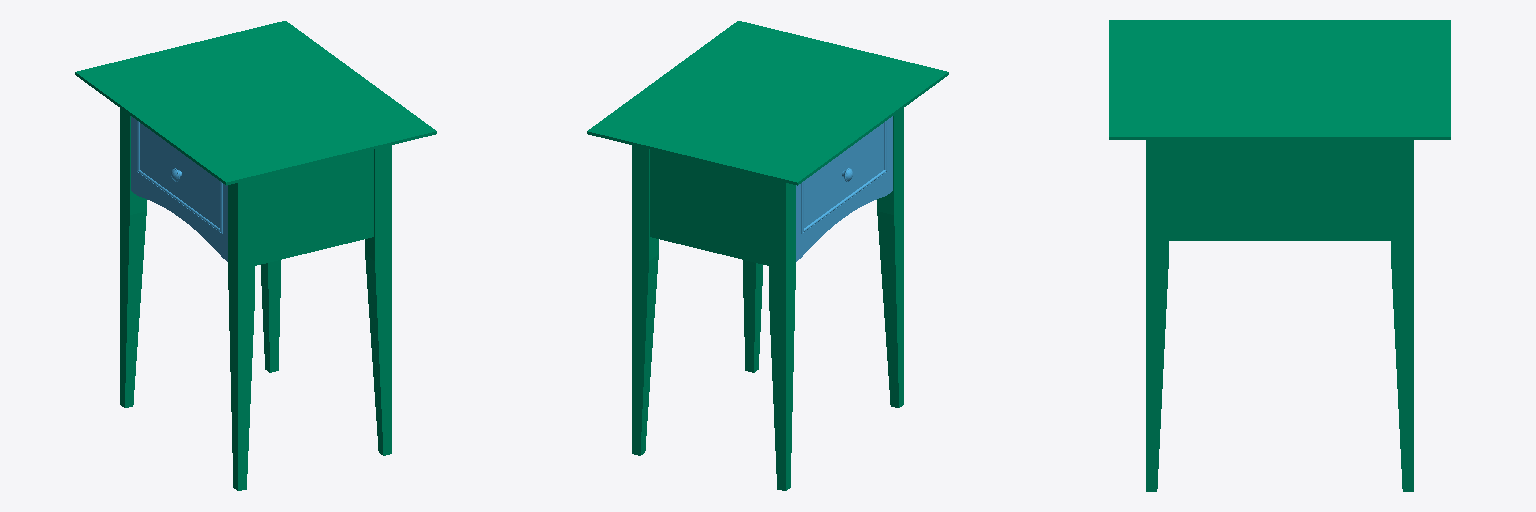
robot.urdf — partnet_299ff1bf2618a4b584b039efed4b32d7:
<?xml version="1.0" ?>
<robot name="partnet_299ff1bf2618a4b584b039efed4b32d7">
	<link name="base"/>
	<link name="link_0">
		<visual name="drawer_front-15">
			<origin xyz="0 0 0"/>
			<geometry>
				<mesh filename="textured_objs/original-19.obj"/>
			</geometry>
		</visual>
		<visual name="drawer_front-15">
			<origin xyz="0 0 0"/>
			<geometry>
				<mesh filename="textured_objs/original-30.obj"/>
			</geometry>
		</visual>
		<visual name="drawer_front-15">
			<origin xyz="0 0 0"/>
			<geometry>
				<mesh filename="textured_objs/original-10.obj"/>
			</geometry>
		</visual>
		<visual name="drawer_front-15">
			<origin xyz="0 0 0"/>
			<geometry>
				<mesh filename="textured_objs/original-31.obj"/>
			</geometry>
		</visual>
		<visual name="drawer_front-15">
			<origin xyz="0 0 0"/>
			<geometry>
				<mesh filename="textured_objs/original-27.obj"/>
			</geometry>
		</visual>
		<visual name="drawer_front-15">
			<origin xyz="0 0 0"/>
			<geometry>
				<mesh filename="textured_objs/original-7.obj"/>
			</geometry>
		</visual>
		<visual name="drawer_front-15">
			<origin xyz="0 0 0"/>
			<geometry>
				<mesh filename="textured_objs/original-29.obj"/>
			</geometry>
		</visual>
		<visual name="drawer_front-15">
			<origin xyz="0 0 0"/>
			<geometry>
				<mesh filename="textured_objs/original-20.obj"/>
			</geometry>
		</visual>
		<visual name="drawer_front-15">
			<origin xyz="0 0 0"/>
			<geometry>
				<mesh filename="textured_objs/original-26.obj"/>
			</geometry>
		</visual>
		<visual name="drawer_side-16">
			<origin xyz="0 0 0"/>
			<geometry>
				<mesh filename="textured_objs/original-5.obj"/>
			</geometry>
		</visual>
		<visual name="drawer_side-17">
			<origin xyz="0 0 0"/>
			<geometry>
				<mesh filename="textured_objs/original-6.obj"/>
			</geometry>
		</visual>
		<visual name="drawer_back-18">
			<origin xyz="0 0 0"/>
			<geometry>
				<mesh filename="textured_objs/original-9.obj"/>
			</geometry>
		</visual>
		<visual name="drawer_bottom-19">
			<origin xyz="0 0 0"/>
			<geometry>
				<mesh filename="textured_objs/original-8.obj"/>
			</geometry>
		</visual>
		<visual name="handle-14">
			<origin xyz="0 0 0"/>
			<geometry>
				<mesh filename="textured_objs/original-25.obj"/>
			</geometry>
		</visual>
		<collision>
			<origin xyz="0 0 0"/>
			<geometry>
				<mesh filename="textured_objs/original-19.obj"/>
			</geometry>
		</collision>
		<collision>
			<origin xyz="0 0 0"/>
			<geometry>
				<mesh filename="textured_objs/original-30.obj"/>
			</geometry>
		</collision>
		<collision>
			<origin xyz="0 0 0"/>
			<geometry>
				<mesh filename="textured_objs/original-10.obj"/>
			</geometry>
		</collision>
		<collision>
			<origin xyz="0 0 0"/>
			<geometry>
				<mesh filename="textured_objs/original-31.obj"/>
			</geometry>
		</collision>
		<collision>
			<origin xyz="0 0 0"/>
			<geometry>
				<mesh filename="textured_objs/original-27.obj"/>
			</geometry>
		</collision>
		<collision>
			<origin xyz="0 0 0"/>
			<geometry>
				<mesh filename="textured_objs/original-7.obj"/>
			</geometry>
		</collision>
		<collision>
			<origin xyz="0 0 0"/>
			<geometry>
				<mesh filename="textured_objs/original-29.obj"/>
			</geometry>
		</collision>
		<collision>
			<origin xyz="0 0 0"/>
			<geometry>
				<mesh filename="textured_objs/original-20.obj"/>
			</geometry>
		</collision>
		<collision>
			<origin xyz="0 0 0"/>
			<geometry>
				<mesh filename="textured_objs/original-26.obj"/>
			</geometry>
		</collision>
		<collision>
			<origin xyz="0 0 0"/>
			<geometry>
				<mesh filename="textured_objs/original-5.obj"/>
			</geometry>
		</collision>
		<collision>
			<origin xyz="0 0 0"/>
			<geometry>
				<mesh filename="textured_objs/original-6.obj"/>
			</geometry>
		</collision>
		<collision>
			<origin xyz="0 0 0"/>
			<geometry>
				<mesh filename="textured_objs/original-9.obj"/>
			</geometry>
		</collision>
		<collision>
			<origin xyz="0 0 0"/>
			<geometry>
				<mesh filename="textured_objs/original-8.obj"/>
			</geometry>
		</collision>
		<collision>
			<origin xyz="0 0 0"/>
			<geometry>
				<mesh filename="textured_objs/original-25.obj"/>
			</geometry>
		</collision>
	</link>
	<joint name="joint_0" type="prismatic">
		<origin xyz="0 0 0"/>
		<axis xyz="0 0 1"/>
		<child link="link_0"/>
		<parent link="link_1"/>
		<limit lower="0" upper="0.4119999999999999"/>
	</joint>
	<link name="link_1">
		<visual name="board-24">
			<origin xyz="0 0 0"/>
			<geometry>
				<mesh filename="textured_objs/original-11.obj"/>
			</geometry>
		</visual>
		<visual name="vertical_side_panel-5">
			<origin xyz="0 0 0"/>
			<geometry>
				<mesh filename="textured_objs/original-12.obj"/>
			</geometry>
		</visual>
		<visual name="vertical_side_panel-6">
			<origin xyz="0 0 0"/>
			<geometry>
				<mesh filename="textured_objs/original-13.obj"/>
			</geometry>
		</visual>
		<visual name="leg-7">
			<origin xyz="0 0 0"/>
			<geometry>
				<mesh filename="textured_objs/original-16.obj"/>
			</geometry>
		</visual>
		<visual name="leg-8">
			<origin xyz="0 0 0"/>
			<geometry>
				<mesh filename="textured_objs/original-15.obj"/>
			</geometry>
		</visual>
		<visual name="leg-9">
			<origin xyz="0 0 0"/>
			<geometry>
				<mesh filename="textured_objs/original-17.obj"/>
			</geometry>
		</visual>
		<visual name="leg-10">
			<origin xyz="0 0 0"/>
			<geometry>
				<mesh filename="textured_objs/original-14.obj"/>
			</geometry>
		</visual>
		<visual name="bar_stretcher-11">
			<origin xyz="0 0 0"/>
			<geometry>
				<mesh filename="textured_objs/original-2.obj"/>
			</geometry>
		</visual>
		<visual name="bar_stretcher-11">
			<origin xyz="0 0 0"/>
			<geometry>
				<mesh filename="textured_objs/original-4.obj"/>
			</geometry>
		</visual>
		<visual name="bar_stretcher-12">
			<origin xyz="0 0 0"/>
			<geometry>
				<mesh filename="textured_objs/original-1.obj"/>
			</geometry>
		</visual>
		<visual name="bar_stretcher-12">
			<origin xyz="0 0 0"/>
			<geometry>
				<mesh filename="textured_objs/original-3.obj"/>
			</geometry>
		</visual>
		<visual name="back_panel-20">
			<origin xyz="0 0 0"/>
			<geometry>
				<mesh filename="textured_objs/original-18.obj"/>
			</geometry>
		</visual>
		<visual name="bar_stretcher-21">
			<origin xyz="0 0 0"/>
			<geometry>
				<mesh filename="textured_objs/original-23.obj"/>
			</geometry>
		</visual>
		<visual name="bar_stretcher-21">
			<origin xyz="0 0 0"/>
			<geometry>
				<mesh filename="textured_objs/original-21.obj"/>
			</geometry>
		</visual>
		<visual name="bar_stretcher-22">
			<origin xyz="0 0 0"/>
			<geometry>
				<mesh filename="textured_objs/original-24.obj"/>
			</geometry>
		</visual>
		<visual name="bar_stretcher-22">
			<origin xyz="0 0 0"/>
			<geometry>
				<mesh filename="textured_objs/original-22.obj"/>
			</geometry>
		</visual>
		<collision>
			<origin xyz="0 0 0"/>
			<geometry>
				<mesh filename="textured_objs/original-11.obj"/>
			</geometry>
		</collision>
		<collision>
			<origin xyz="0 0 0"/>
			<geometry>
				<mesh filename="textured_objs/original-12.obj"/>
			</geometry>
		</collision>
		<collision>
			<origin xyz="0 0 0"/>
			<geometry>
				<mesh filename="textured_objs/original-13.obj"/>
			</geometry>
		</collision>
		<collision>
			<origin xyz="0 0 0"/>
			<geometry>
				<mesh filename="textured_objs/original-16.obj"/>
			</geometry>
		</collision>
		<collision>
			<origin xyz="0 0 0"/>
			<geometry>
				<mesh filename="textured_objs/original-15.obj"/>
			</geometry>
		</collision>
		<collision>
			<origin xyz="0 0 0"/>
			<geometry>
				<mesh filename="textured_objs/original-17.obj"/>
			</geometry>
		</collision>
		<collision>
			<origin xyz="0 0 0"/>
			<geometry>
				<mesh filename="textured_objs/original-14.obj"/>
			</geometry>
		</collision>
		<collision>
			<origin xyz="0 0 0"/>
			<geometry>
				<mesh filename="textured_objs/original-2.obj"/>
			</geometry>
		</collision>
		<collision>
			<origin xyz="0 0 0"/>
			<geometry>
				<mesh filename="textured_objs/original-4.obj"/>
			</geometry>
		</collision>
		<collision>
			<origin xyz="0 0 0"/>
			<geometry>
				<mesh filename="textured_objs/original-1.obj"/>
			</geometry>
		</collision>
		<collision>
			<origin xyz="0 0 0"/>
			<geometry>
				<mesh filename="textured_objs/original-3.obj"/>
			</geometry>
		</collision>
		<collision>
			<origin xyz="0 0 0"/>
			<geometry>
				<mesh filename="textured_objs/original-18.obj"/>
			</geometry>
		</collision>
		<collision>
			<origin xyz="0 0 0"/>
			<geometry>
				<mesh filename="textured_objs/original-23.obj"/>
			</geometry>
		</collision>
		<collision>
			<origin xyz="0 0 0"/>
			<geometry>
				<mesh filename="textured_objs/original-21.obj"/>
			</geometry>
		</collision>
		<collision>
			<origin xyz="0 0 0"/>
			<geometry>
				<mesh filename="textured_objs/original-24.obj"/>
			</geometry>
		</collision>
		<collision>
			<origin xyz="0 0 0"/>
			<geometry>
				<mesh filename="textured_objs/original-22.obj"/>
			</geometry>
		</collision>
	</link>
	<joint name="joint_1" type="fixed">
		<origin rpy="1.570796326794897 0 -1.570796326794897" xyz="0 0 0"/>
		<child link="link_1"/>
		<parent link="base"/>
	</joint>
</robot>

--- What the picture shows (computed from the rendered views, not written in the file) ---
Views: 3 orthographic renders of the robot side by side, from view 1: azimuth 30°, elevation 25°; view 2: azimuth 150°, elevation 25°; view 3: azimuth 270°, elevation 25°.
Model partnet_299ff1bf2618a4b584b039efed4b32d7 with 3 links and 2 joints (1 prismatic, 1 fixed), rooted at base, posed all joints at 0.
Links seen in each view (by area): view 1: link_1, link_0; view 2: link_1, link_0; view 3: link_1.
Link boxes in pixels (<box>): link_1: <box>75,21,436,490</box>; link_0: <box>131,116,227,261</box>; link_1: <box>587,21,948,490</box>; link_0: <box>796,116,892,261</box>; link_1: <box>1109,20,1450,491</box>.
Size in the robot's own frame: 0.7418 by 0.9223 by 1.1 metres.
Meshes: 30 distinct files referenced, 30 mesh visuals loaded (30 OBJ).
